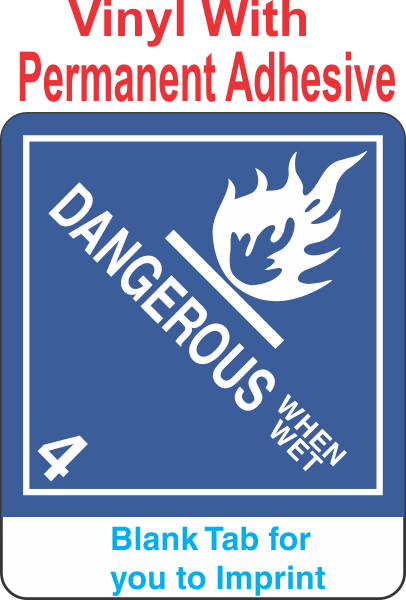Dangerous when wet: (1, 112, 406, 517)
